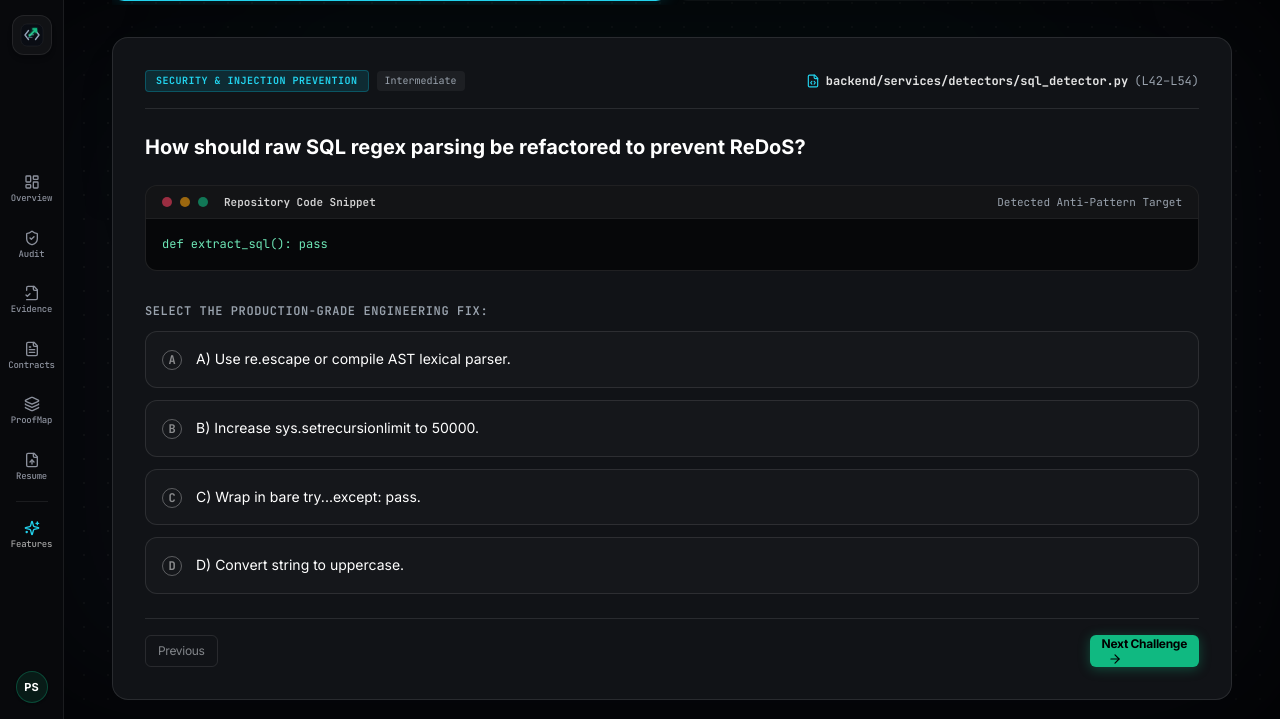
Test case: Deep Resume Forensic & Code Quality Tests › renders CodeQualityTestsPage and handles option selection and submission
(page scrolled)
Expected: the heading "How should raw SQL regex parsing be refactored" is shown, [145,134,806,158]
Note: Select option A for Question 1
Click the text "A) Use re.escape or compile AST lexical parser.": coordinates (353, 359) [196,348,511,371]
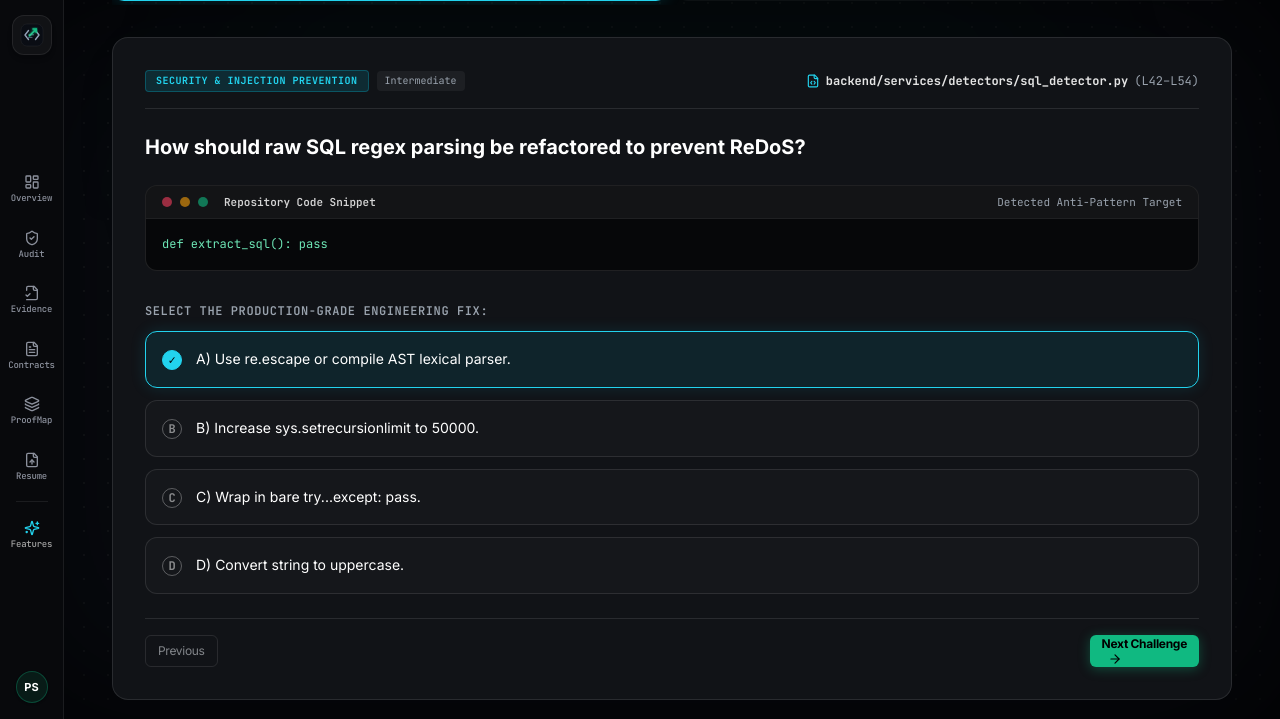
Note: Click Next Challenge
Click the button "Next Challenge": coordinates (1144, 651) [1090,635,1199,667]
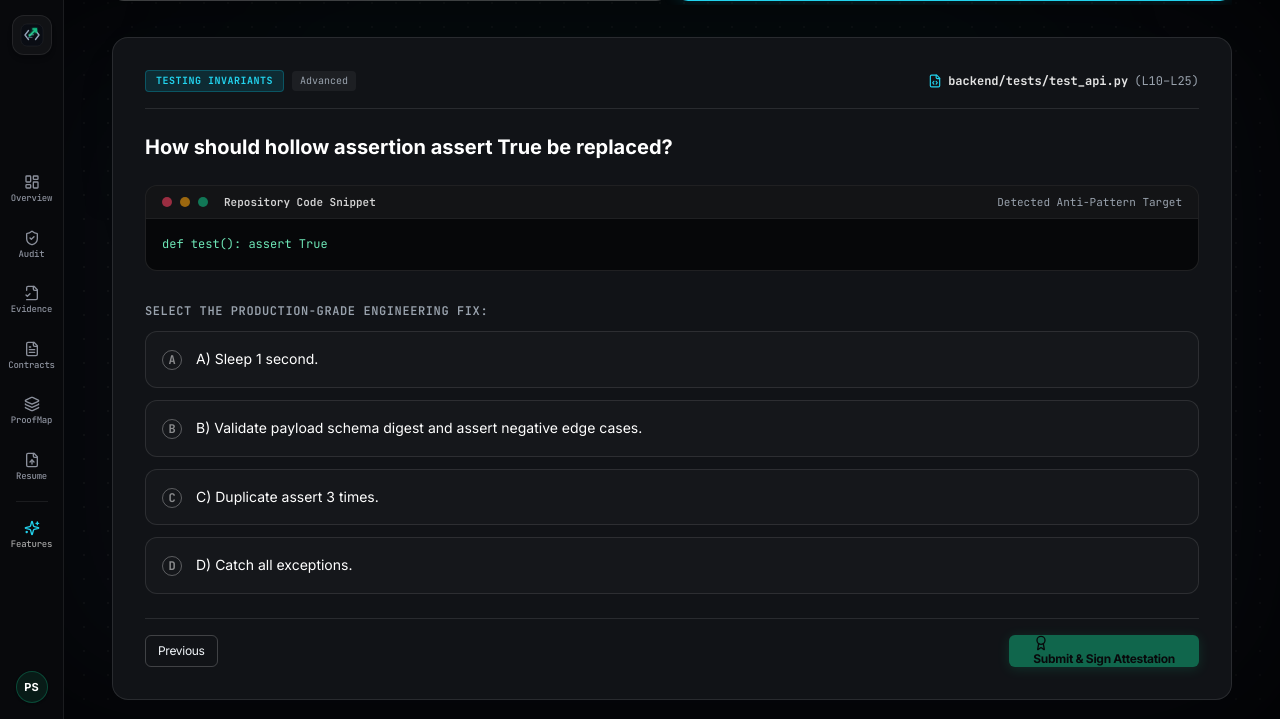
Expected: the heading "How should hollow assertion assert True be replaced?" is shown, [145,134,673,158]
Note: Select option B for Question 2
Click the text "B) Validate payload schema digest and assert negative edge cases.": coordinates (419, 428) [196,417,642,440]
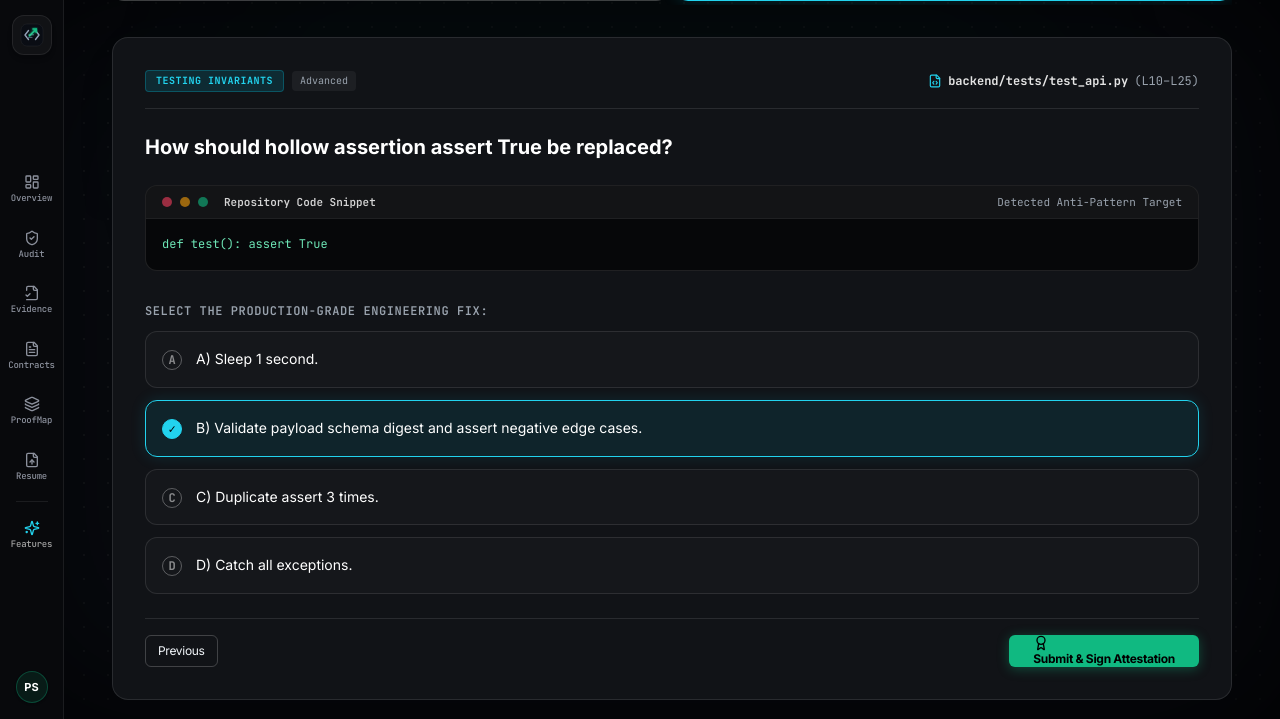
Note: Submit test
Click the button "Submit & Sign Attestation": coordinates (1104, 651) [1009,635,1199,667]
(page scrolled)
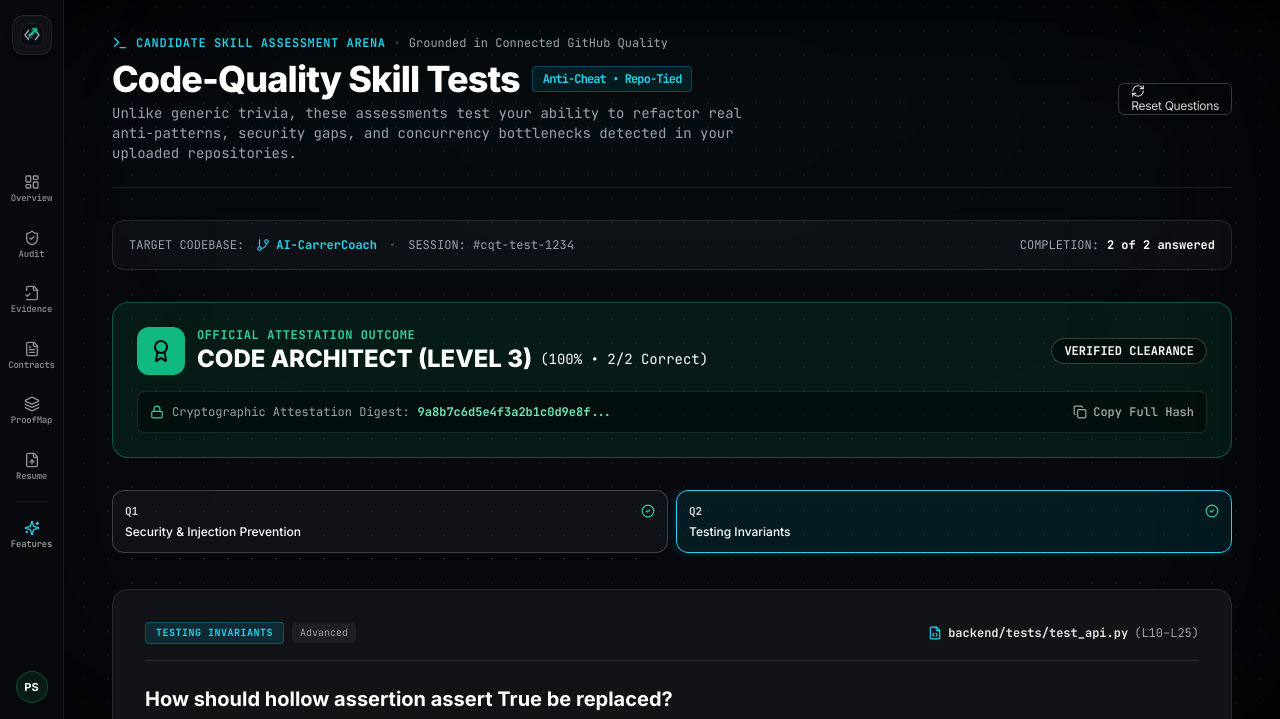
Expected: the text "CODE ARCHITECT (LEVEL 3) (100% • 2/2 Correct)" is shown, [197,343,708,375]
Expected: the text "VERIFIED CLEARANCE" is shown, [1051,338,1207,364]
Expected: the text "(100% • 2/2 Correct)" is shown, [540,349,708,369]
